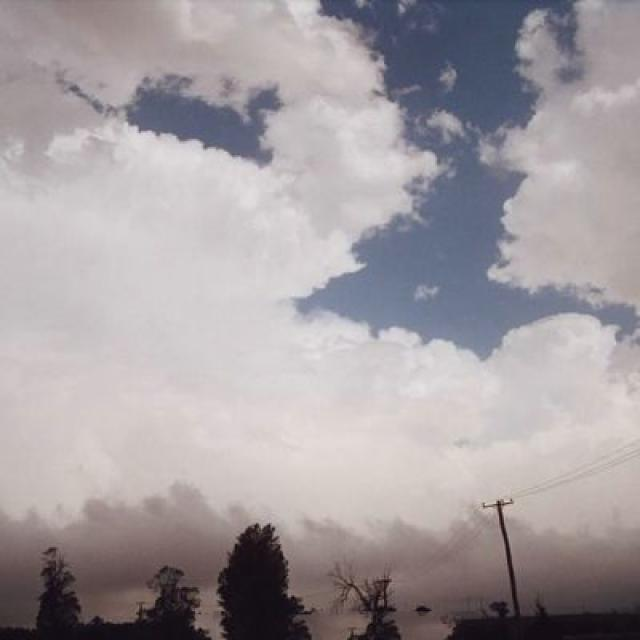St: (1, 12, 638, 439)
